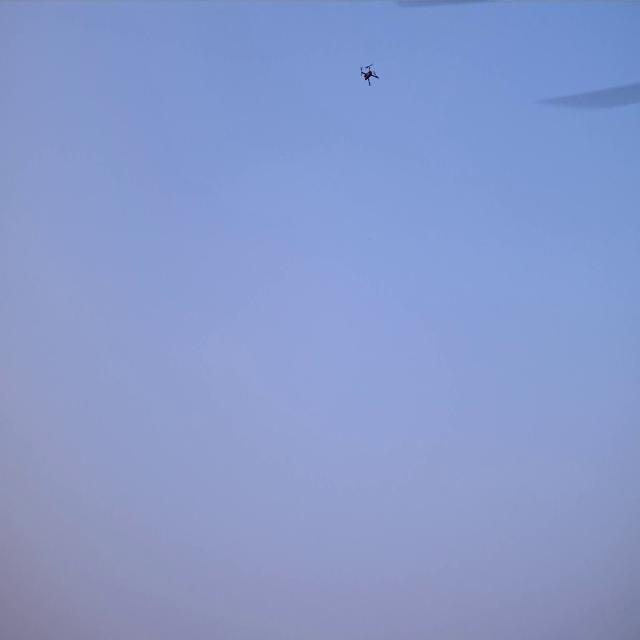UAV: (361, 66, 377, 85)
